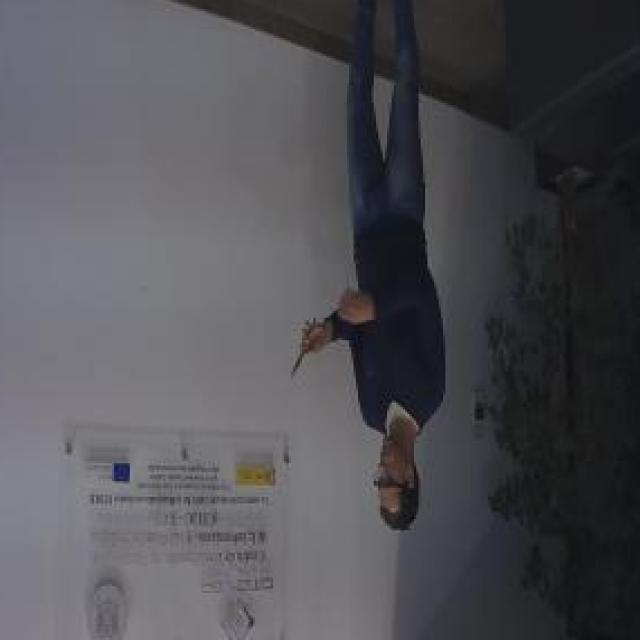knife: (290, 315, 318, 385)
